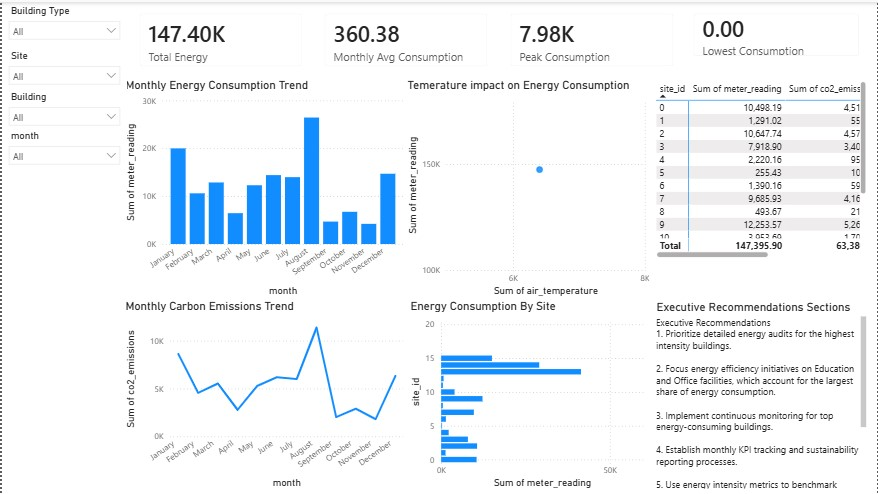

The page's visual inventory and layout, read from the dashboard file:
{"tool":"powerbi","page":{"name":"Energy Trends and Performance Monitoring ","canvas":[1280,720],"ordinal":3},"visuals":[{"type":"group","id":"g1","title":"Group 2","box":[175,0,1095.3,717.5],"z":0},{"type":"group","id":"g2","title":"Group 1","box":[183.1,0,1087.1,111.3],"z":0,"group":"g1"},{"type":"cardVisual","fields":{"Data":["final_energy_analysis.Total Energy"]},"box":[183.1,0,271.6,111.3],"z":0,"group":"g2"},{"type":"slicer","title":"Building Type","fields":{"Values":["final_energy_analysis.primary_use"]},"box":[0,0,182.5,66.1],"z":1000,"group":"g3"},{"type":"cardVisual","fields":{"Data":["final_energy_analysis.Monthly Avg Consumption"]},"box":[453.6,0,272.9,111.1],"z":1000,"group":"g2"},{"type":"lineClusteredColumnComboChart","title":"Monthly Energy Consumption Trend","fields":{"Y":["Sum(final_energy_analysis.meter_reading)"],"Category":["final_energy_analysis.month"]},"box":[175,111.3,416.5,324],"z":1000,"group":"g1"},{"type":"cardVisual","fields":{"Data":["final_energy_analysis.Peak Consumption"]},"box":[726.5,0,272.9,111.1],"z":2000,"group":"g2"},{"type":"scatterChart","title":"Temerature impact on Energy Consumption","fields":{"X":["Sum(final_energy_analysis.air_temperature)"],"Y":["Sum(final_energy_analysis.meter_reading)"]},"box":[588.3,111.3,364.5,324],"z":2000,"group":"g1"},{"type":"slicer","fields":{"Values":["final_energy_analysis.building_id"]},"box":[0,126.3,182.5,56.1],"z":2000,"group":"g3"},{"type":"cardVisual","fields":{"Data":["final_energy_analysis.Lowest Consumption"]},"box":[993.6,0,276.6,96.6],"z":3000,"group":"g2"},{"type":"slicer","fields":{"Values":["final_energy_analysis.month"]},"box":[0,182.4,182.5,60.1],"z":3000,"group":"g3"},{"type":"lineChart","title":"Monthly Carbon Emissions Trend","fields":{"Category":["final_energy_analysis.month"],"Y":["Sum(final_energy_analysis.co2_emissions)"]},"box":[175,435.3,416.5,282.2],"z":3000,"group":"g1"},{"type":"slicer","fields":{"Values":["final_energy_analysis.site_id"]},"box":[0,66.1,182.5,60.1],"z":4000,"group":"g3"},{"type":"clusteredBarChart","title":"Energy Consumption By Site","fields":{"Y":["Sum(final_energy_analysis.meter_reading)"],"Category":["final_energy_analysis.site_id"]},"box":[591.5,435.3,361.2,282.2],"z":4000,"group":"g1"},{"type":"group","id":"g3","title":"Group 3","box":[0,0,182.5,242.5],"z":4001},{"type":"pivotTable","fields":{"Values":["Sum(final_energy_analysis.meter_reading)","Sum(final_energy_analysis.co2_emissions)","Avg(final_energy_analysis.energy_intensity)"],"Rows":["final_energy_analysis.site_id"]},"box":[952.7,111.3,317.3,268.3],"z":5000,"group":"g1"},{"type":"textbox","title":"Executive Recommendations Sections","box":[952.4,435.8,317.2,281.1],"z":6000,"group":"g1"}]}

Visuals, with their boxes in screenshot pixels (x1, y1, x2, y2), scaled from the page's 1280x720 canvas onto the 878x494 screenshot:
"Group 2" group: region(120, 0, 871, 492)
"Group 1" group: region(126, 0, 871, 76)
cardVisual - final_energy_analysis.Total Energy: region(126, 0, 312, 76)
"Building Type" slicer: region(0, 0, 125, 45)
cardVisual - final_energy_analysis.Monthly Avg Consumption: region(311, 0, 498, 76)
"Monthly Energy Consumption Trend" lineClusteredColumnComboChart: region(120, 76, 406, 299)
cardVisual - final_energy_analysis.Peak Consumption: region(498, 0, 686, 76)
"Temerature impact on Energy Consumption" scatterChart: region(404, 76, 654, 299)
slicer - final_energy_analysis.building_id: region(0, 87, 125, 125)
cardVisual - final_energy_analysis.Lowest Consumption: region(682, 0, 871, 66)
slicer - final_energy_analysis.month: region(0, 125, 125, 166)
"Monthly Carbon Emissions Trend" lineChart: region(120, 299, 406, 492)
slicer - final_energy_analysis.site_id: region(0, 45, 125, 87)
"Energy Consumption By Site" clusteredBarChart: region(406, 299, 653, 492)
"Group 3" group: region(0, 0, 125, 166)
pivotTable - Sum(final_energy_analysis.meter_reading) x Sum(final_energy_analysis.co2_emissions): region(653, 76, 871, 260)
"Executive Recommendations Sections" textbox: region(653, 299, 871, 492)
